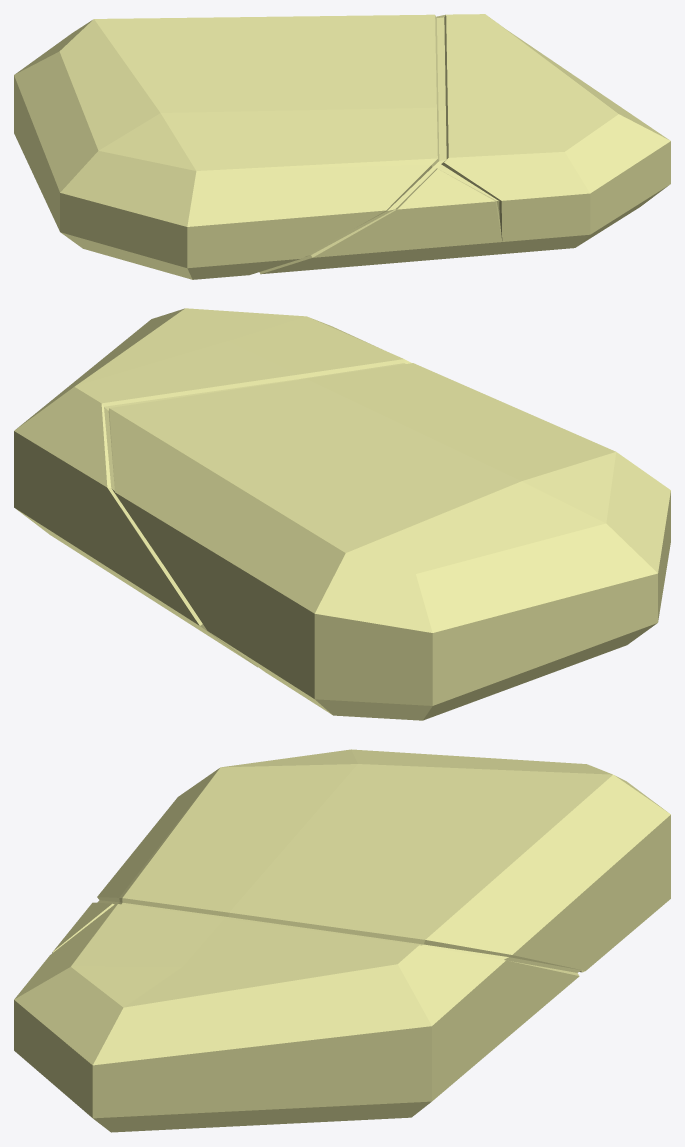
Rendered from Rock_B.FBX.
3 renders of one model, top to bottom at view 1: azimuth 30°, elevation 25°; view 2: azimuth 150°, elevation 25°; view 3: azimuth 270°, elevation 25°, orthographic. The views are drawn at different scales.
Visible parts, largest first — view 1: Rock_B; view 2: Rock_B; view 3: Rock_B.
Boxes of the visible parts, <box> form: Rock_B: <box>14,14,670,279</box>; Rock_B: <box>14,308,670,720</box>; Rock_B: <box>14,749,670,1132</box>.
Size of the model in its own units: 862 by 199 by 783.
